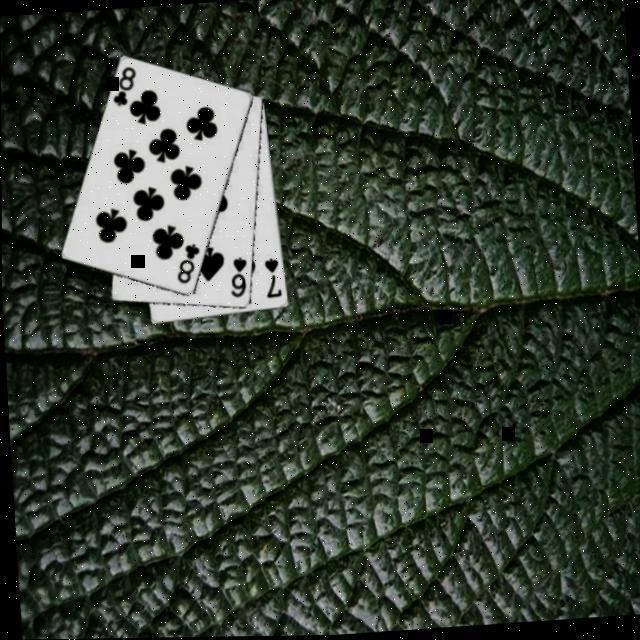6S: (223, 256, 250, 304)
7S: (260, 258, 282, 304)
8C: (106, 66, 138, 112), (170, 244, 201, 290)
